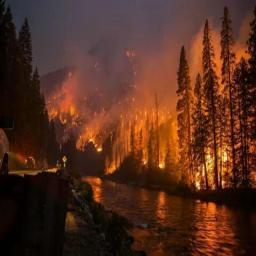Heavy smoke: (36, 11, 185, 120)
Large fire: (45, 37, 256, 192)
